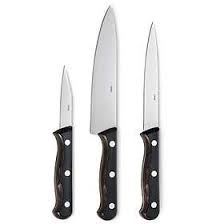knife: (88, 4, 119, 221), (139, 20, 161, 222), (52, 63, 75, 220)
